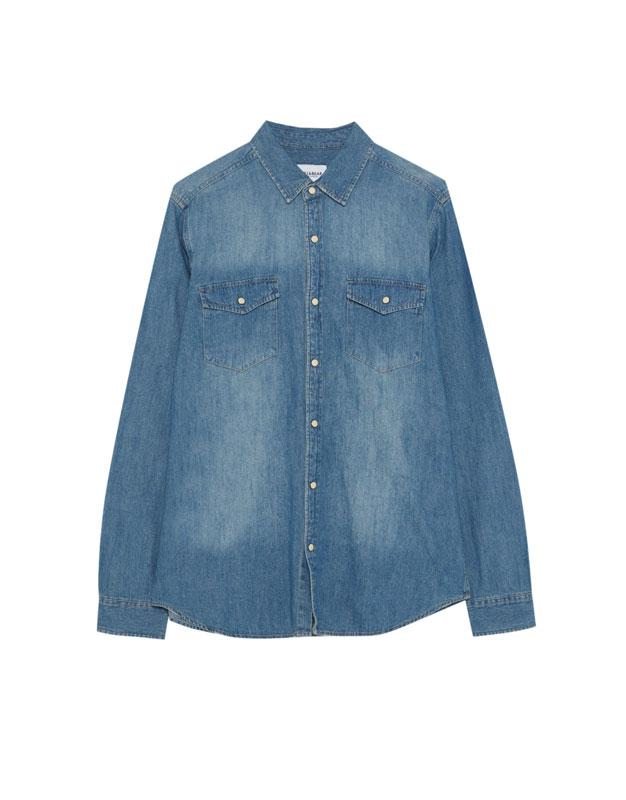teeshirt: (74, 122, 572, 681)
